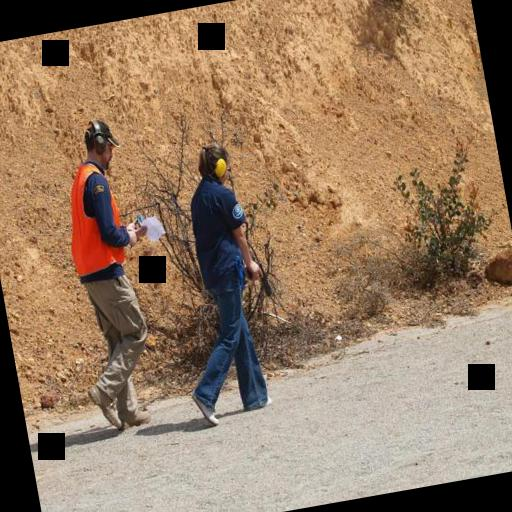Handgun: (244, 257, 274, 300)
